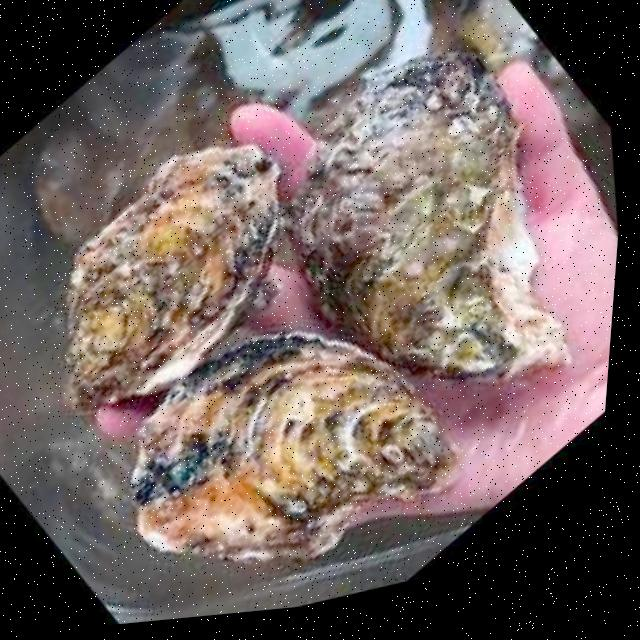Oyster-Closed: (64, 144, 285, 418)
Oyster-Indeterminate: (292, 52, 569, 383), (130, 332, 460, 566)
